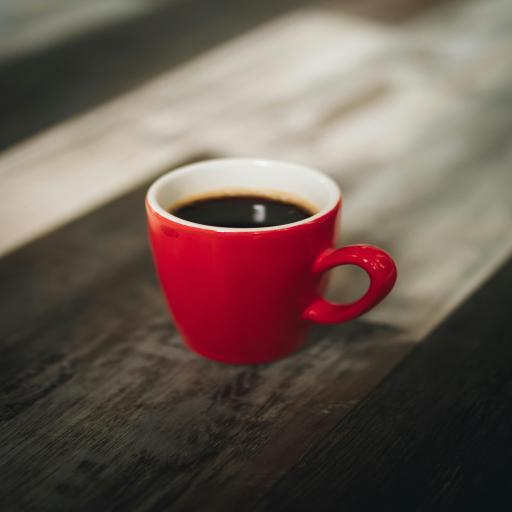cup: (144, 157, 397, 366)
